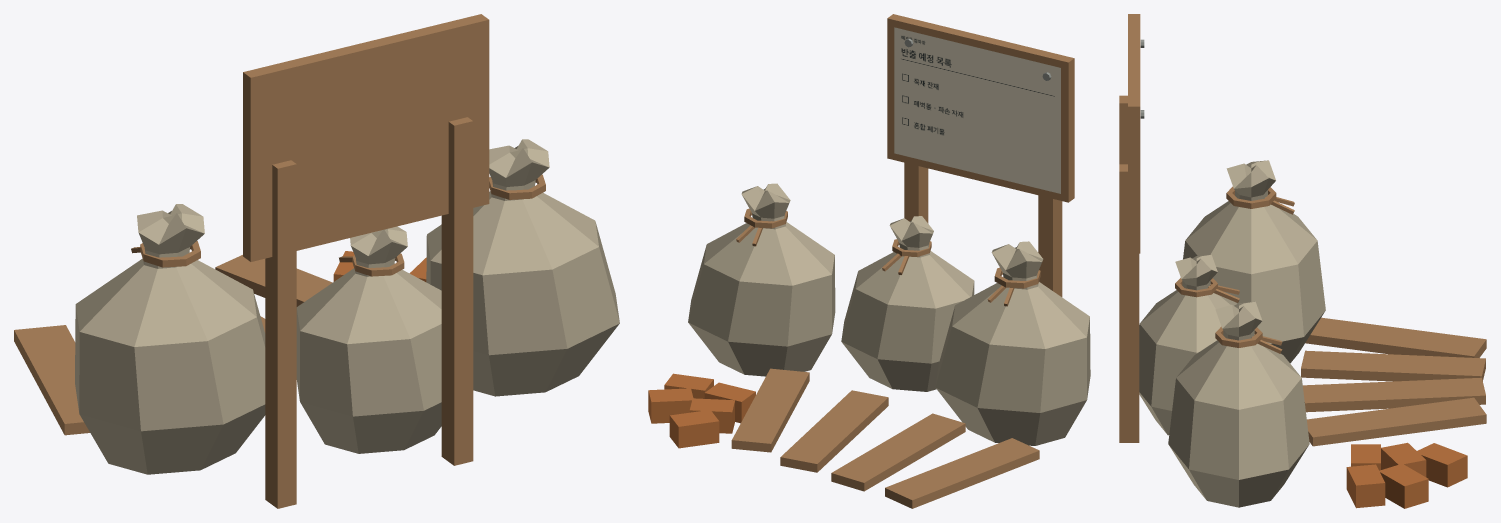
Rendered from D07_Waste_Collection_Sacks.fbx.
The picture shows the model from 3 angles, left to right: view 1: azimuth 30°, elevation 25°; view 2: azimuth 150°, elevation 25°; view 3: azimuth 270°, elevation 25°; orthographic projection. The views are drawn at different scales.
Visible parts, largest first — view 1: Waste_Sacks, Structure, Discarded_Boards; view 2: Waste_Sacks, Front_Sign, Discarded_Boards, Structure, Broken_Bricks; view 3: Waste_Sacks, Discarded_Boards, Structure, Broken_Bricks.
Boxes of the visible parts, x1=… form: Waste_Sacks: x1=75, y1=139, x2=619, y2=474; Structure: x1=243, y1=14, x2=489, y2=508; Discarded_Boards: x1=14, y1=255, x2=332, y2=435; Waste_Sacks: x1=688, y1=183, x2=1090, y2=445; Front_Sign: x1=894, y1=27, x2=1060, y2=193; Discarded_Boards: x1=731, y1=368, x2=1039, y2=508; Structure: x1=887, y1=14, x2=1074, y2=296; Broken_Bricks: x1=648, y1=373, x2=755, y2=448; Waste_Sacks: x1=1139, y1=160, x2=1325, y2=507; Discarded_Boards: x1=1301, y1=317, x2=1486, y2=446; Structure: x1=1119, y1=14, x2=1140, y2=442; Broken_Bricks: x1=1346, y1=442, x2=1467, y2=508.
Size of the model in its own units: 1.95 by 1.53 by 1.47.
5 materials, 1 textured.
